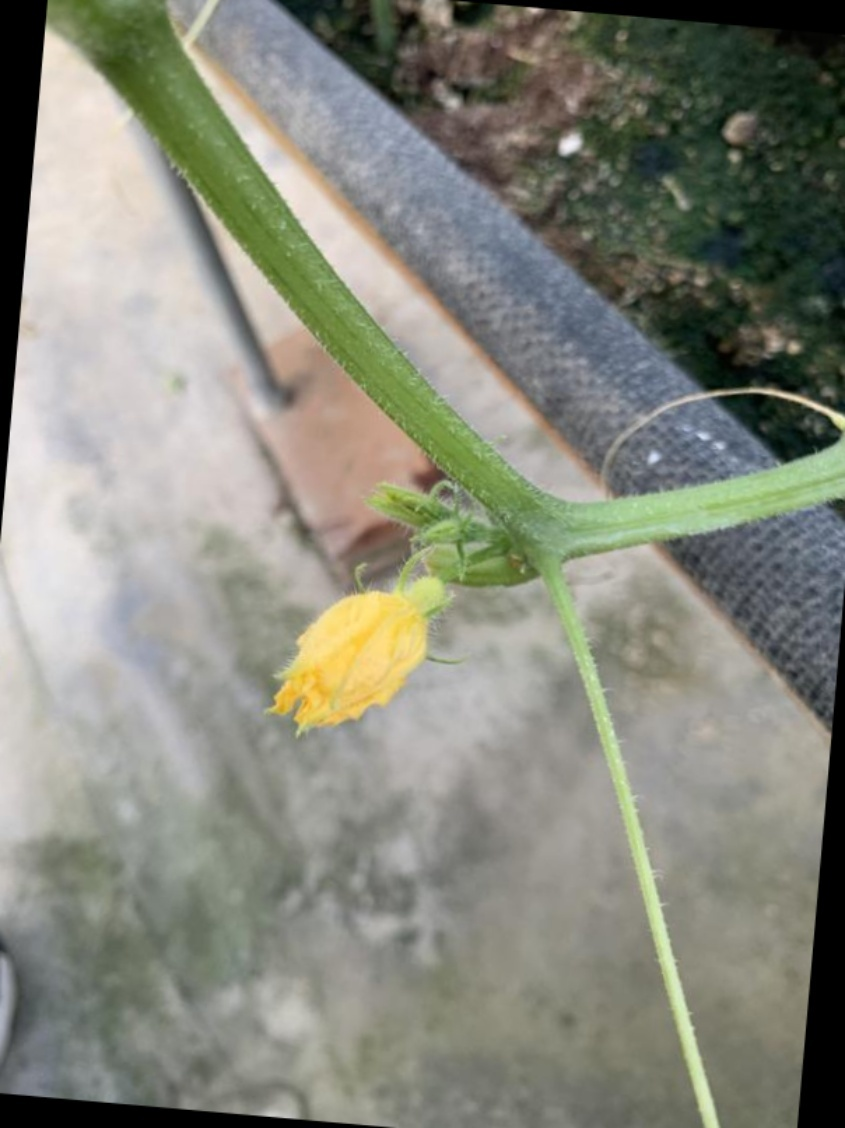bud: (226, 552, 467, 755)
